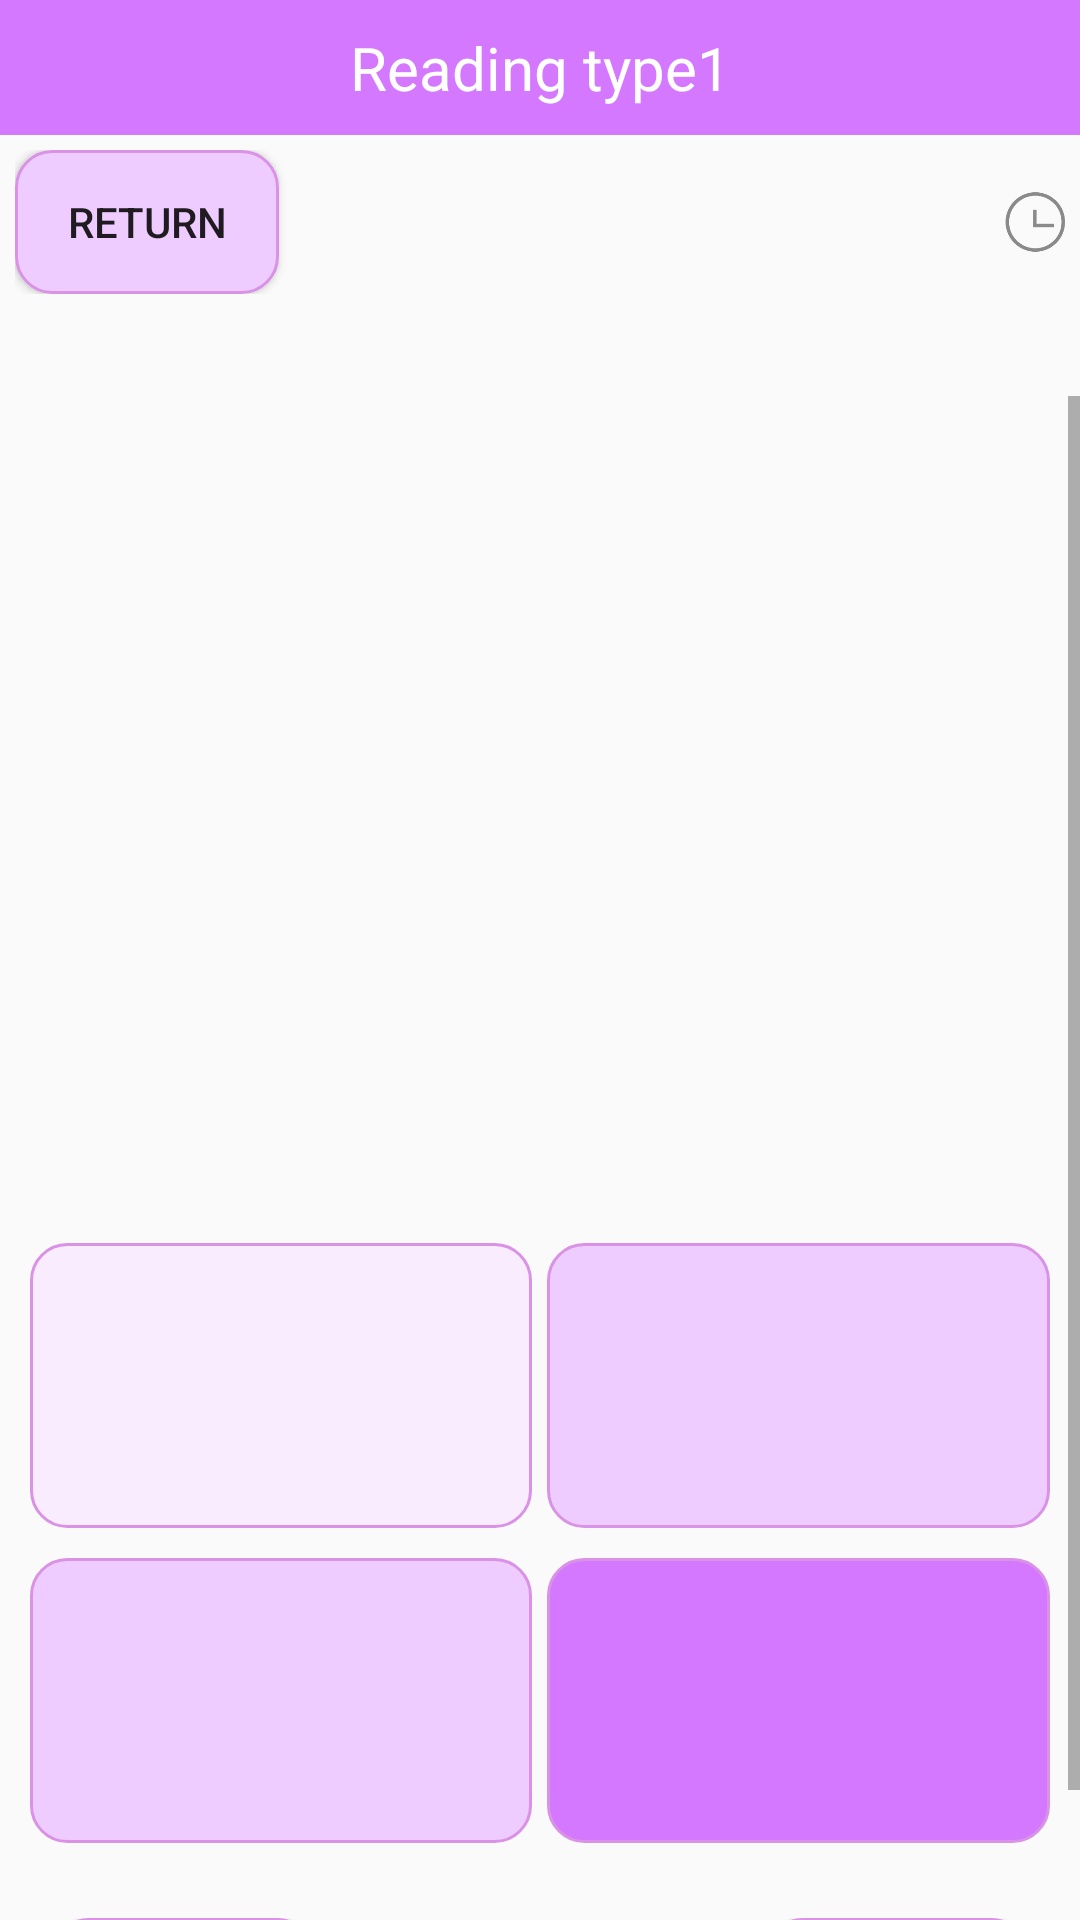

Named icons in this screenshot (1080x1920) and their centers, (x=x, y=y):
time: (x=1035, y=222)
